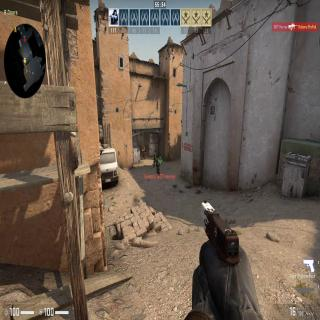CT-Body: (152, 153, 156, 166), (156, 158, 159, 175), (142, 145, 145, 157)
CT-Head: (154, 152, 156, 156), (156, 158, 158, 162), (142, 145, 144, 147)
